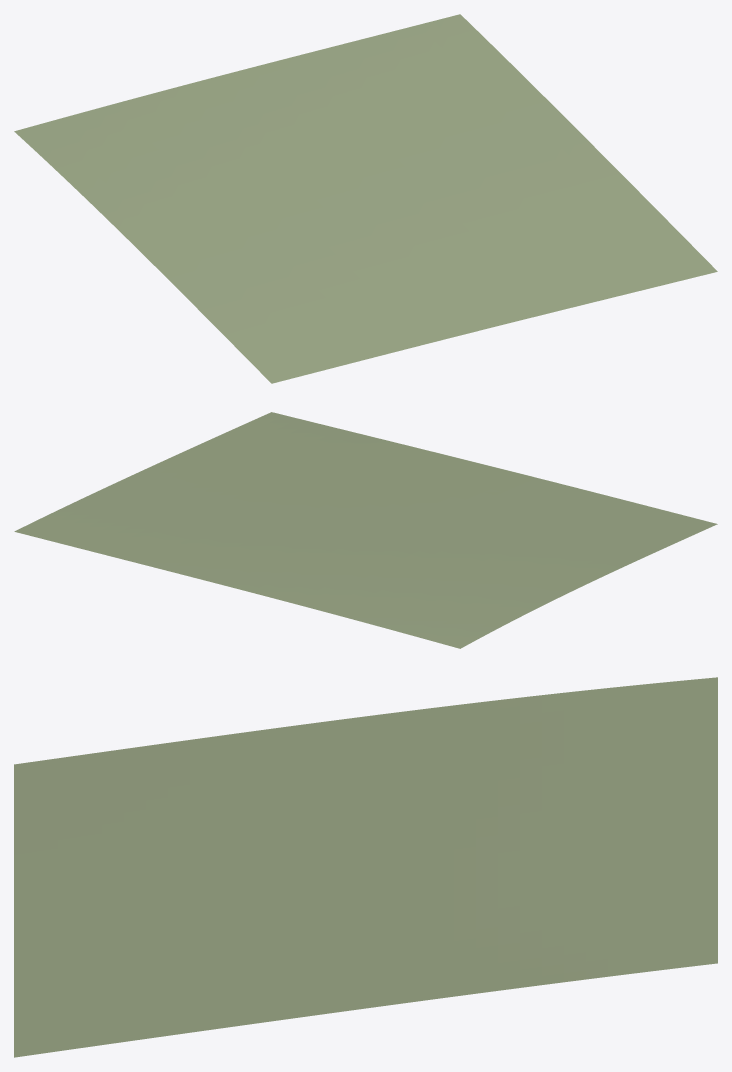
File: desert-26-10.glb
3 views of the same model, one above another, from view 1: azimuth 30°, elevation 25°; view 2: azimuth 150°, elevation 25°; view 3: azimuth 270°, elevation 25° (orthographic). The views are drawn at different scales.
Parts seen in each view (by area): view 1: desert-26-10; view 2: desert-26-10; view 3: desert-26-10.
Part boxes in pixels (x1,y1,x2,y2): desert-26-10: (14,14,717,383); desert-26-10: (14,412,717,648); desert-26-10: (14,677,717,1057).
Size of the model in its own units: 512 by 79.1 by 512.
